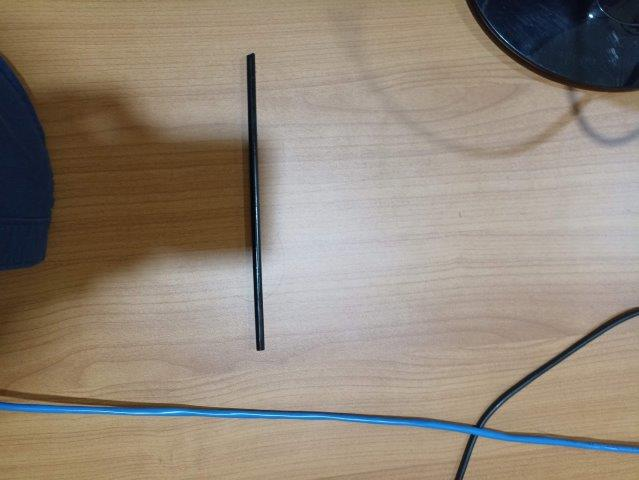sedotan: (246, 53, 265, 350)
